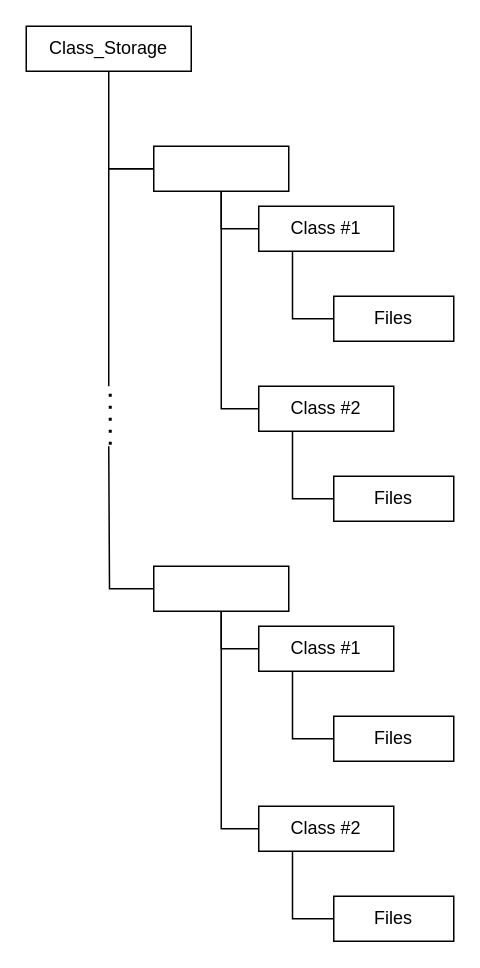
The diagram is 480 pixels wide and 968 high, and some of its shapes have lost their labels. Each missing label, with the box of its shape:
Department #1: (152, 145, 289, 191)
Department #N: (152, 565, 289, 611)
